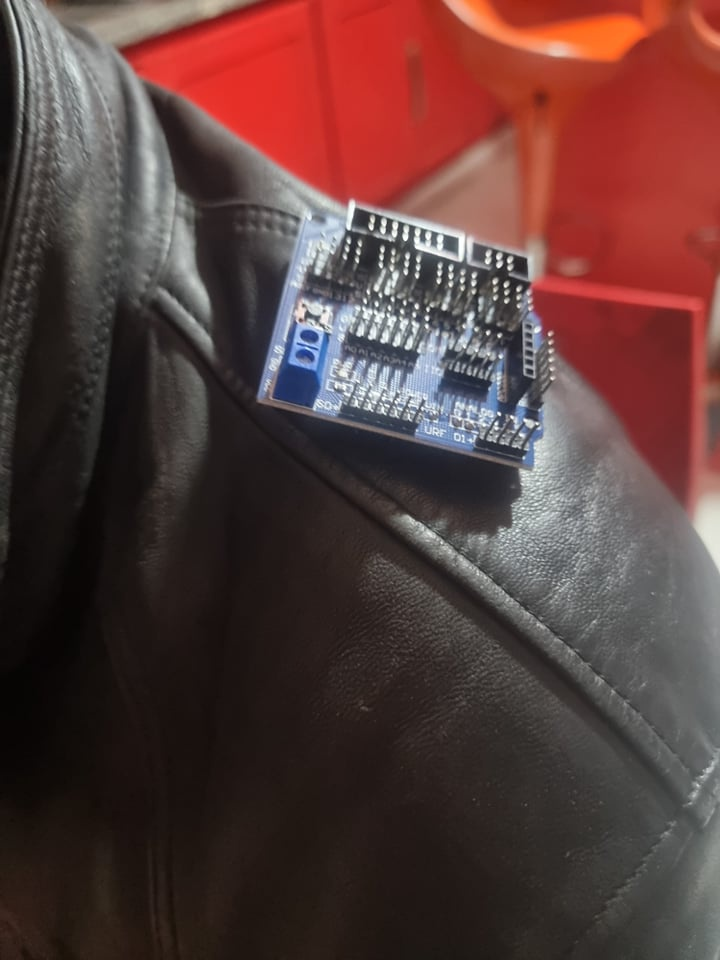5V EXPANSION: (251, 199, 561, 472)
